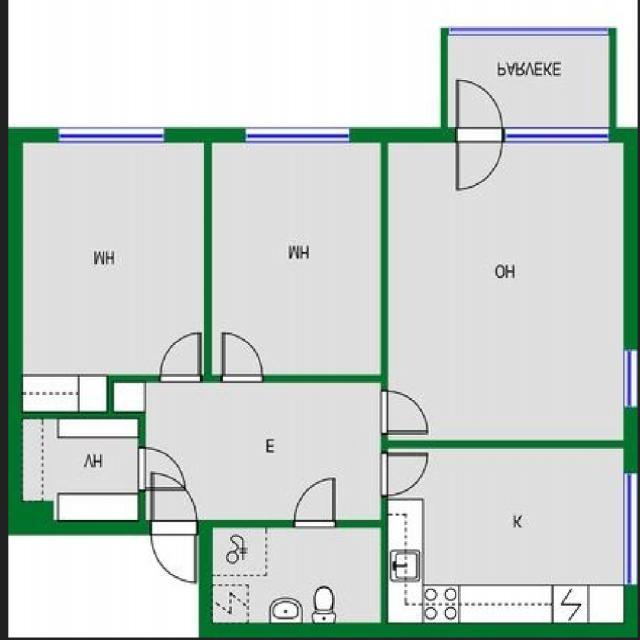door: (459, 80, 503, 142), (459, 128, 503, 190), (152, 520, 196, 582), (152, 473, 196, 535), (380, 390, 428, 432), (380, 453, 428, 495), (223, 333, 263, 383), (160, 333, 200, 383), (138, 449, 183, 489), (296, 480, 333, 528)
